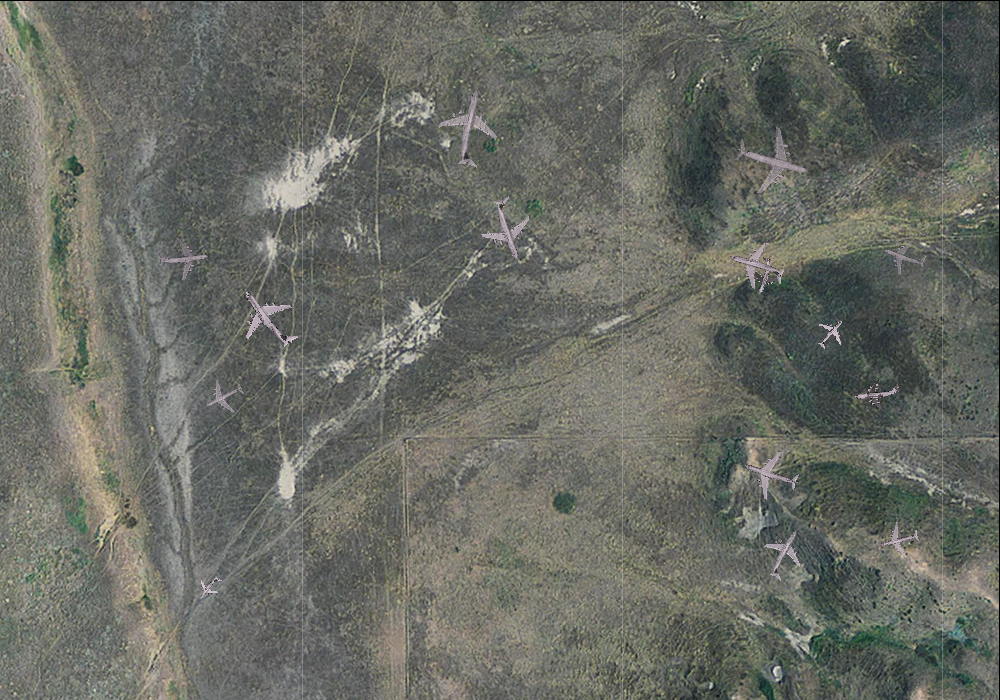plane: (222, 271, 314, 364), (726, 115, 818, 204), (428, 82, 514, 173), (469, 188, 547, 268), (751, 519, 819, 589), (736, 440, 806, 508), (722, 232, 792, 300), (877, 229, 932, 282), (196, 370, 251, 423), (155, 231, 210, 284), (808, 310, 855, 357), (852, 370, 902, 413), (876, 517, 923, 562), (742, 252, 786, 299), (190, 570, 227, 607)
